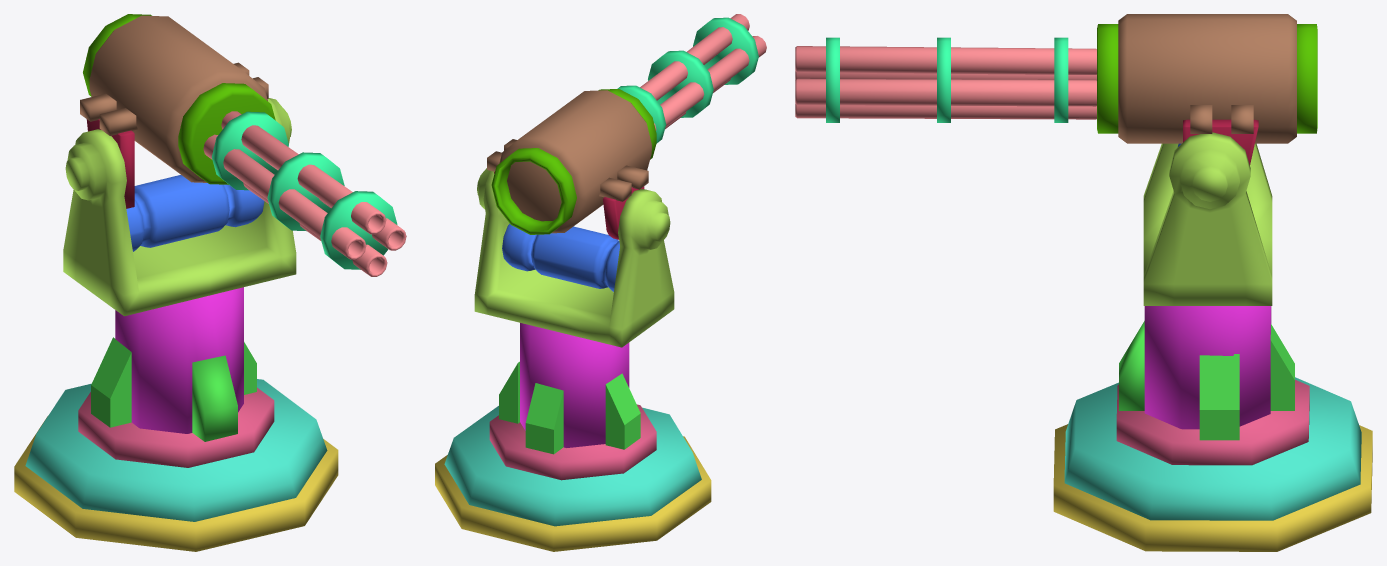
The model's file is Gun_Turret_medium.fbx.
The picture shows the model from 3 angles, left to right: view 1: azimuth 30°, elevation 25°; view 2: azimuth 150°, elevation 25°; view 3: azimuth 270°, elevation 25°; orthographic projection. The views are drawn at different scales.
Visible parts, largest first — view 1: Top1.001, Cylinder.004, top3.001, top2.001, Cylinder.007; view 2: Top1.001, Cylinder.004, top3.001, top2.001, Cylinder.007; view 3: Top1.001, Cylinder.004, Cylinder.007, top3.001, top2.001.
Part boxes in pixels (bbox=[...]): Top1.001: bbox=[14, 379, 338, 551]; Cylinder.004: bbox=[80, 14, 275, 251]; top3.001: bbox=[63, 98, 296, 316]; top2.001: bbox=[91, 287, 256, 441]; Cylinder.007: bbox=[203, 111, 406, 276]; Top1.001: bbox=[435, 404, 711, 551]; Cylinder.004: bbox=[487, 89, 656, 291]; top3.001: bbox=[474, 168, 674, 347]; top2.001: bbox=[499, 323, 640, 454]; Cylinder.007: bbox=[617, 14, 766, 143]; Top1.001: bbox=[1053, 377, 1372, 551]; Cylinder.004: bbox=[1097, 14, 1317, 165]; Cylinder.007: bbox=[795, 37, 1096, 122]; top3.001: bbox=[1143, 132, 1272, 305]; top2.001: bbox=[1119, 306, 1294, 440].
Size of the model in its own units: 81.9 by 132 by 148.
